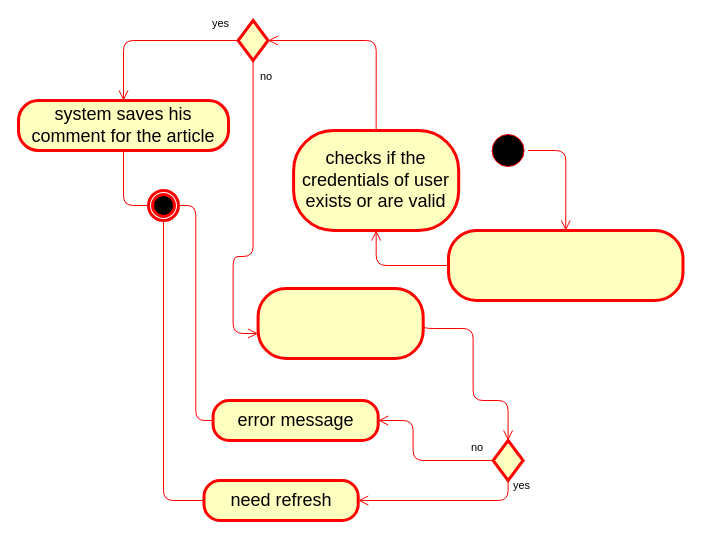
This 702x539 diagram has some shape labels left out. Here are the shapes that lost their labels. From the top down, the centre of each, then its label:
At point 565,265: "user clicks on comment box and writes its comment".
At point 340,323: "check if the access token is expired".
